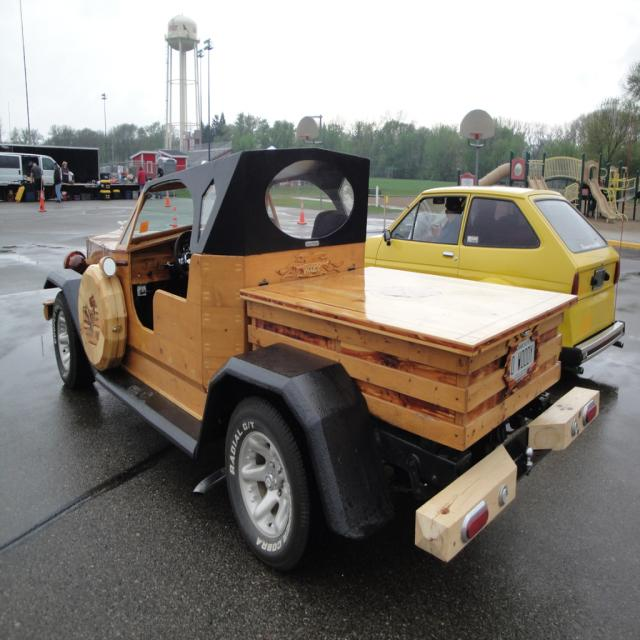car: (41, 148, 610, 574)
